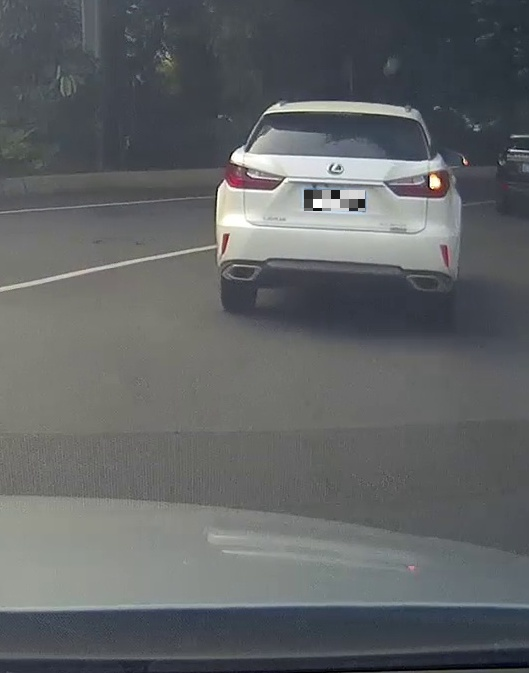L_light: (224, 161, 286, 191)
R_light: (384, 170, 449, 198)
T_light: (323, 113, 357, 120)
day-right: (216, 104, 460, 315)
plate_1: (304, 190, 365, 211)
